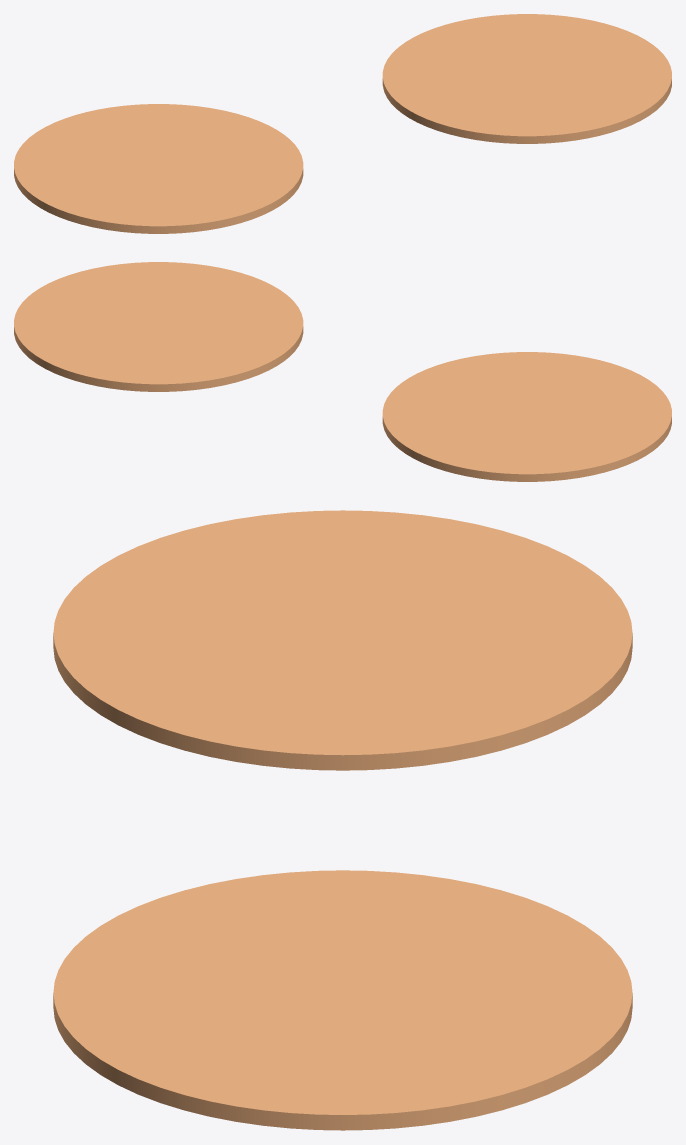
File: immersive_field.gltf
3 views of the same model, one above another, from view 1: azimuth 30°, elevation 25°; view 2: azimuth 150°, elevation 25°; view 3: azimuth 270°, elevation 25° (orthographic). The views are drawn at different scales.
Size of the model in its own units: 30.12 by 0.3586 by 12.19.
